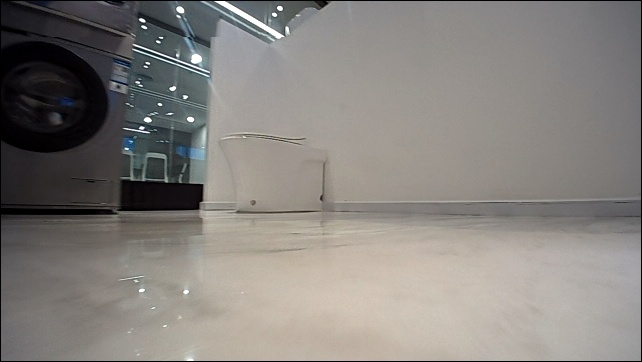toilet: (216, 130, 329, 211)
washing_machine: (2, 6, 135, 212)
